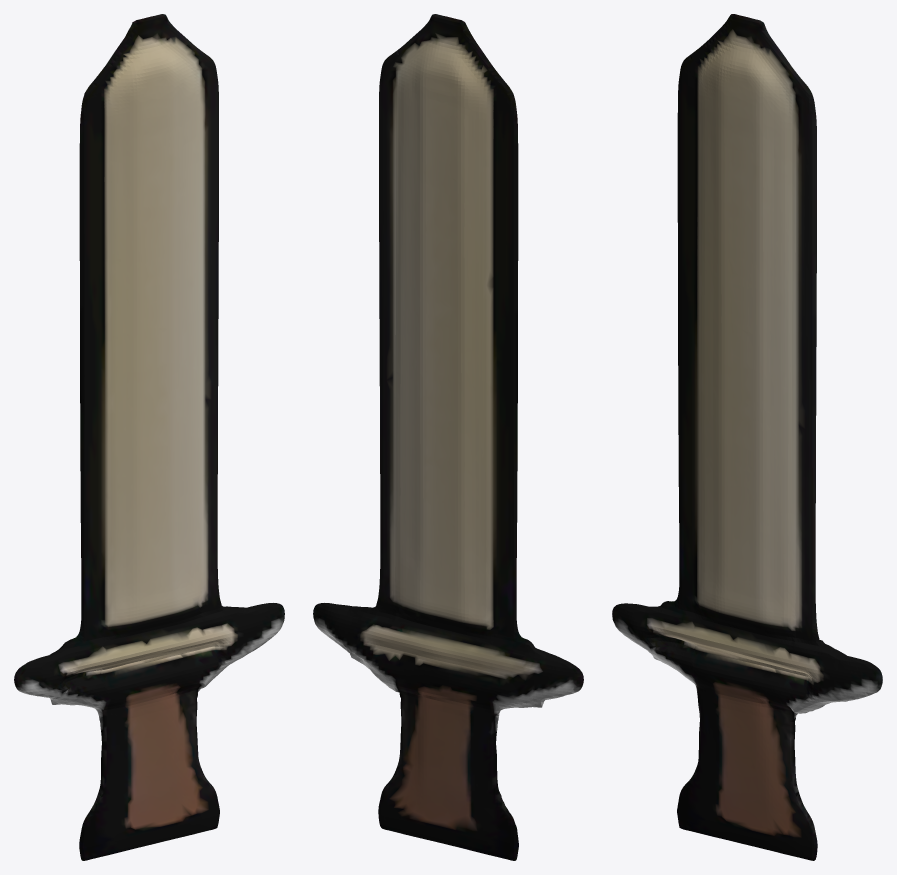
The model's file is b_bsword_2.glb.
3 views of the same model, side by side, from view 1: azimuth 30°, elevation 25°; view 2: azimuth 150°, elevation 25°; view 3: azimuth 330°, elevation 25° (orthographic).
Parts seen in each view (by area): view 1: geometry_0; view 2: geometry_0; view 3: geometry_0.
Part boxes in pixels (left/top/right/bottom): geometry_0: left=14, top=14, right=284, bottom=860; geometry_0: left=313, top=14, right=583, bottom=860; geometry_0: left=612, top=14, right=882, bottom=860.
Size of the model in its own units: 0.3421 by 1 by 0.0311.
